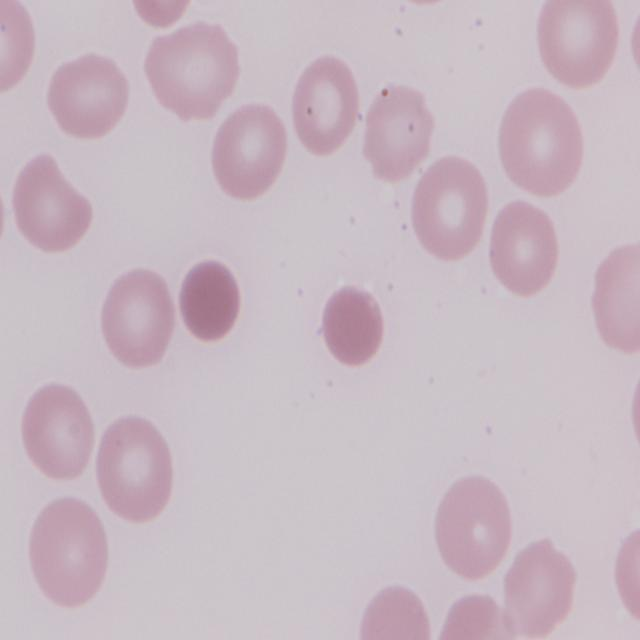RBC: (495, 80, 588, 202), (140, 19, 242, 121), (25, 494, 111, 612), (90, 408, 176, 526), (430, 471, 516, 585), (406, 152, 490, 268), (8, 152, 92, 256), (19, 378, 97, 486), (359, 80, 439, 185), (97, 266, 177, 370), (284, 54, 360, 160), (212, 100, 290, 203), (46, 49, 132, 142), (488, 194, 563, 299), (498, 536, 575, 638), (536, 0, 623, 89), (590, 236, 640, 354), (355, 580, 433, 640), (434, 586, 512, 640), (0, 0, 40, 99), (608, 515, 640, 622), (122, 0, 196, 29), (630, 350, 640, 470)
Spherocyte: (316, 278, 386, 368), (172, 256, 242, 344)
